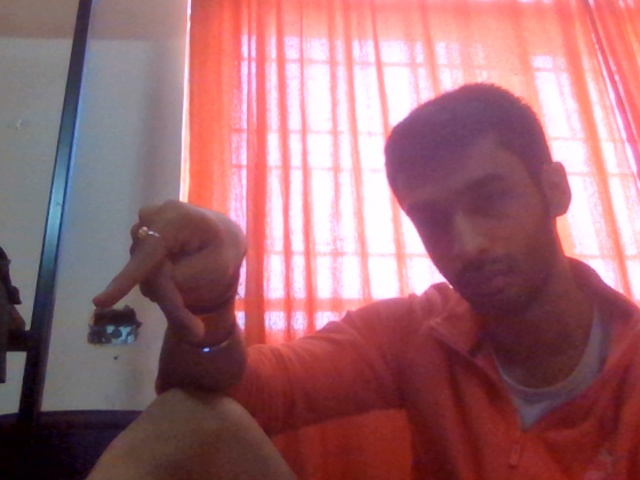P: (90, 166, 273, 403)
